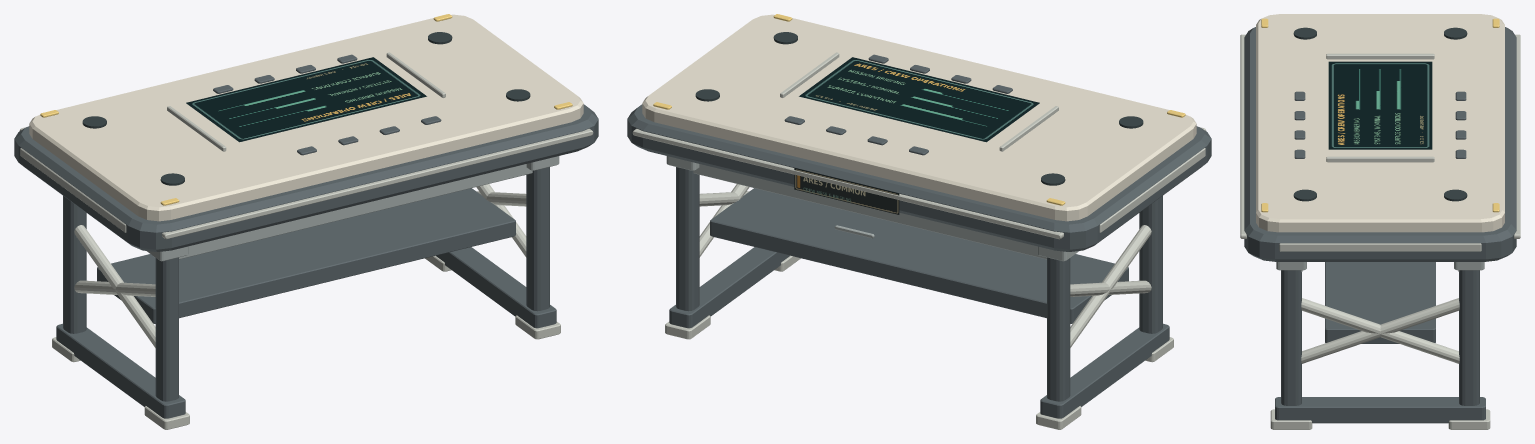
File: common_table_retro.glb
3 views of the same model, side by side, from view 1: azimuth 30°, elevation 25°; view 2: azimuth 150°, elevation 25°; view 3: azimuth 270°, elevation 25° (orthographic). The views are drawn at different scales.
Parts seen in each view (by area): view 1: static_graphite, static_cream, Planning_Display_00, static_satinsteel, static_steel, Cup_Retainers, Table_Controls, Table_Planning_Console; view 2: static_graphite, static_cream, Planning_Display_00, static_satinsteel, static_steel, ARES / COMMON_01, Cup_Retainers, Table_Controls, Table_Planning_Console; view 3: static_cream, static_graphite, Planning_Display_00, static_satinsteel, Table_Planning_Console, Cup_Retainers, Table_Controls, static_steel, static_warning.
Part boxes in pixels (x1=…): static_graphite: x1=14, y1=104, x2=598, y2=418; static_cream: x1=29, y1=14, x2=583, y2=221; Planning_Display_00: x1=186, y1=57, x2=426, y2=142; static_satinsteel: x1=19, y1=127, x2=593, y2=429; static_steel: x1=147, y1=156, x2=559, y2=261; Cup_Retainers: x1=82, y1=32, x2=530, y2=185; Table_Controls: x1=213, y1=54, x2=441, y2=155; Table_Planning_Console: x1=167, y1=52, x2=445, y2=151; static_graphite: x1=627, y1=104, x2=1211, y2=418; static_cream: x1=642, y1=14, x2=1196, y2=221; Planning_Display_00: x1=799, y1=57, x2=1039, y2=142; static_satinsteel: x1=632, y1=127, x2=1206, y2=429; static_steel: x1=666, y1=156, x2=1078, y2=261; ARES / COMMON_01: x1=794, y1=168, x2=899, y2=214; Cup_Retainers: x1=695, y1=32, x2=1143, y2=185; Table_Controls: x1=784, y1=54, x2=1012, y2=155; Table_Planning_Console: x1=780, y1=52, x2=1058, y2=151; static_cream: x1=1256, y1=14, x2=1504, y2=232; static_graphite: x1=1244, y1=27, x2=1516, y2=423; Planning_Display_00: x1=1328, y1=61, x2=1432, y2=149; static_satinsteel: x1=1240, y1=34, x2=1520, y2=429; Table_Planning_Console: x1=1326, y1=53, x2=1434, y2=162; Cup_Retainers: x1=1293, y1=27, x2=1467, y2=201; Table_Controls: x1=1294, y1=91, x2=1466, y2=158; static_steel: x1=1276, y1=262, x2=1484, y2=271; static_warning: x1=1261, y1=18, x2=1499, y2=212.
Bounding box in the file's own units: 1.87 × 0.919 × 1.01.
Materials: 8 (2 with a texture image).
